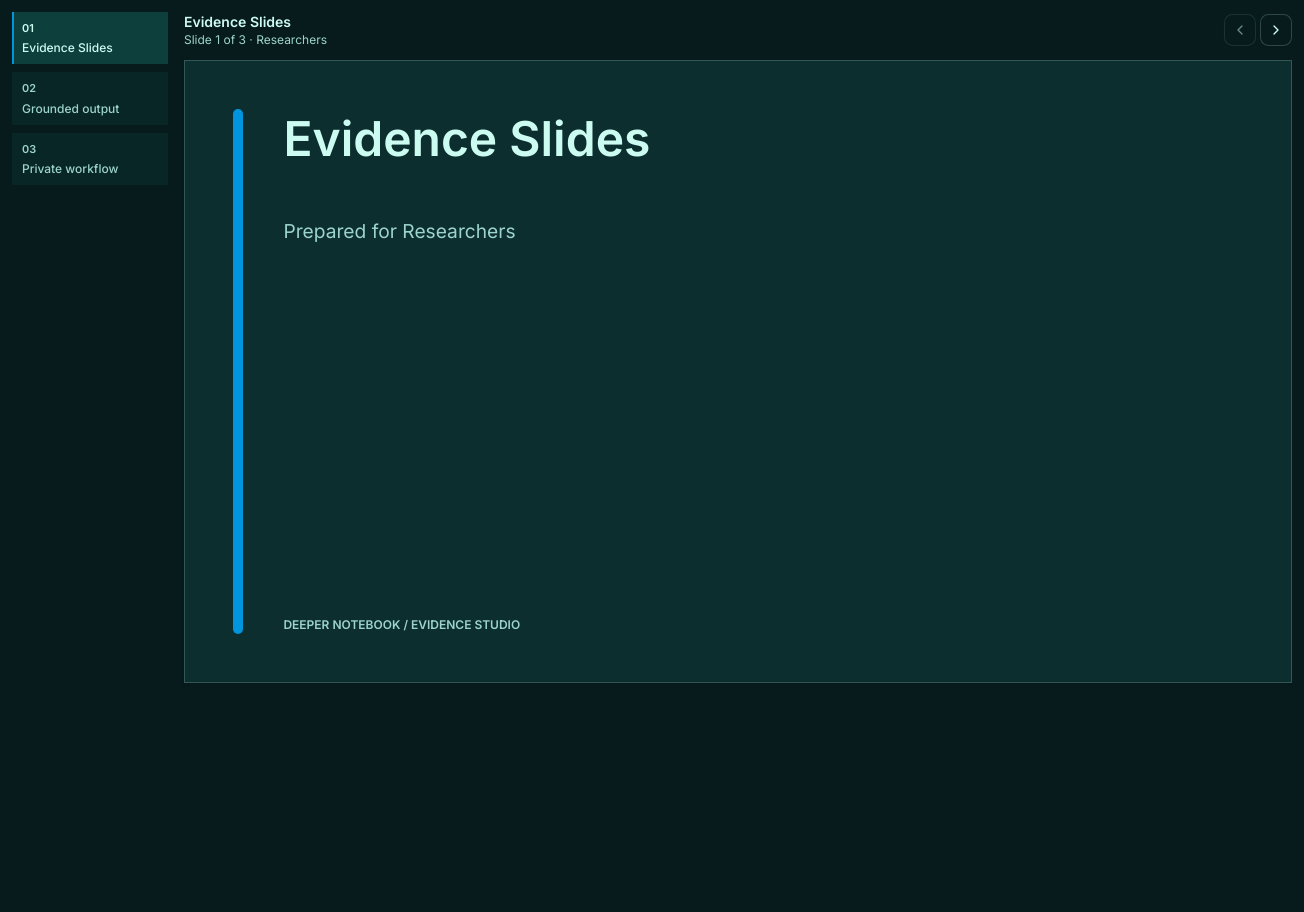
it: SlideDeckViewer › navigates a fixed slide stage with buttons and arrow keys
The image size is (1304, 912).
Expected: the heading "Evidence Slides" is shown, left=283, top=109, right=650, bottom=168
Expected: the text "Prepared for Researchers" is shown, left=283, top=219, right=516, bottom=243
Click the button named "Next slide".
click(1276, 30)  # box left=1260, top=14, right=1292, bottom=46
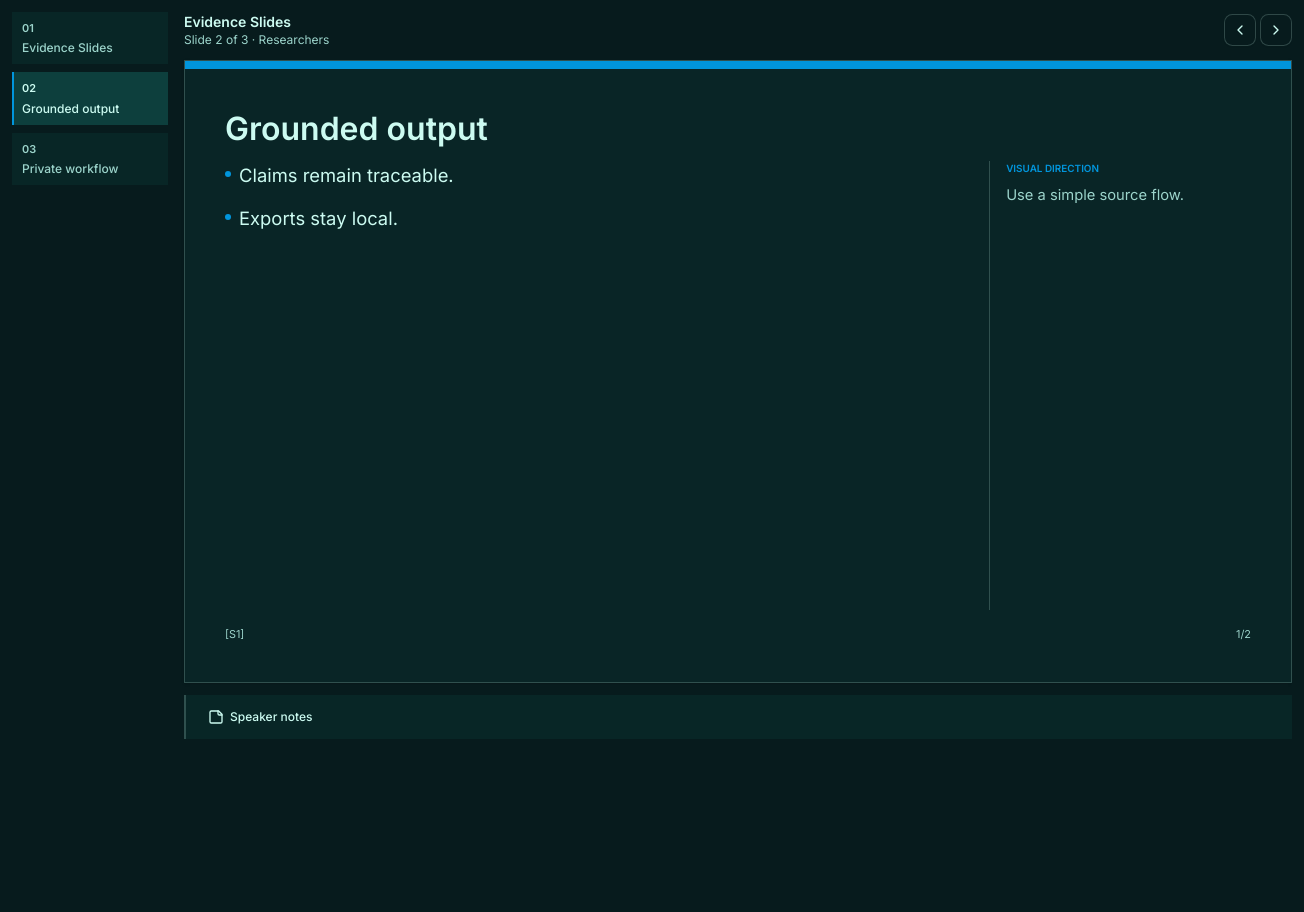
Now the heading "Grounded output" is shown, box left=225, top=109, right=488, bottom=148
Now the text "Slide 2 of 3 · Researchers" is shown, box left=184, top=32, right=329, bottom=48
Click the button named "Next slide".
click(1276, 30)  # box left=1260, top=14, right=1292, bottom=46
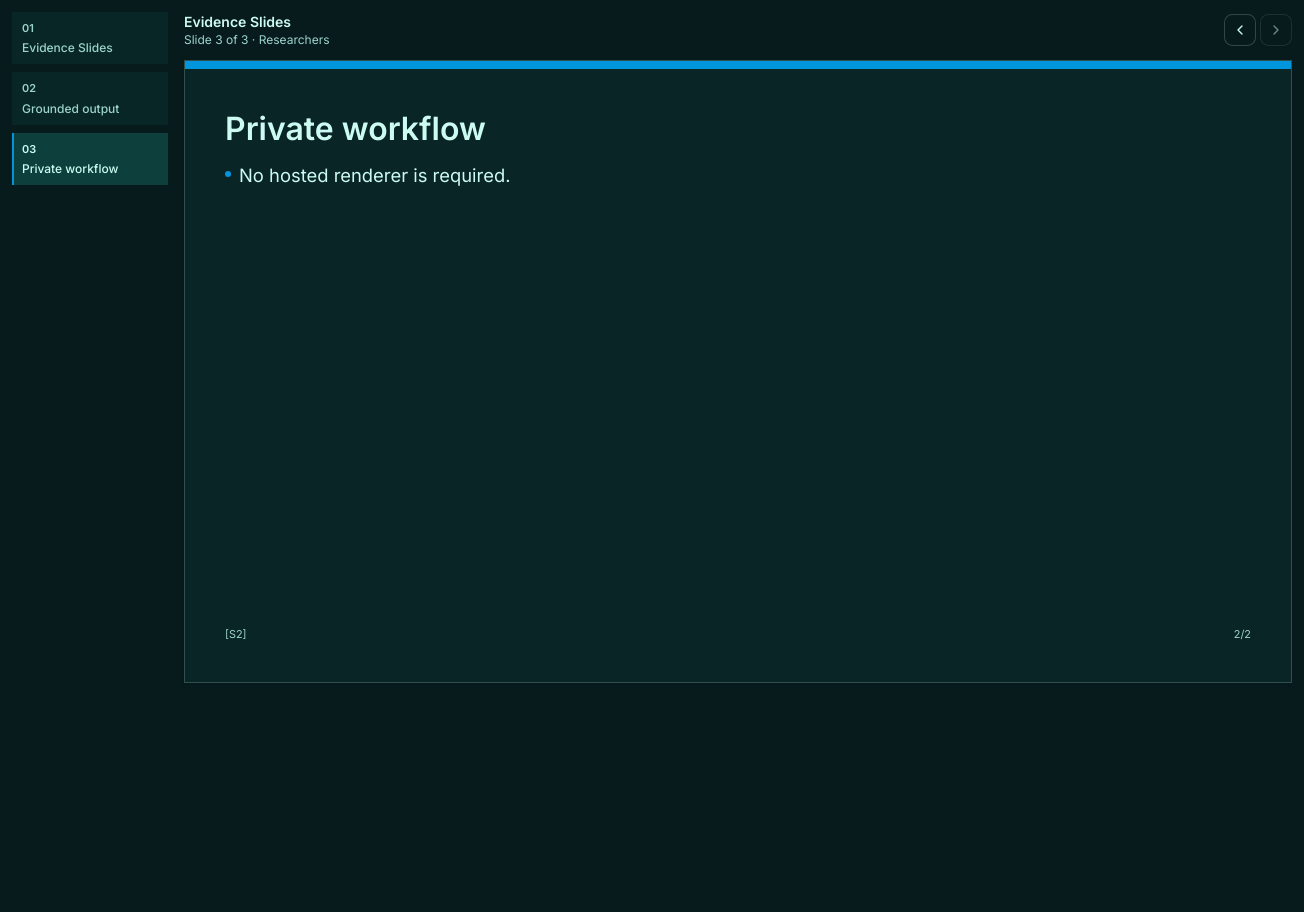
Now the heading "Private workflow" is shown, box left=225, top=109, right=486, bottom=148
Now the text "Slide 3 of 3 · Researchers" is shown, box left=184, top=32, right=330, bottom=48
Press ArrowLeft in the element named "Slide deck"
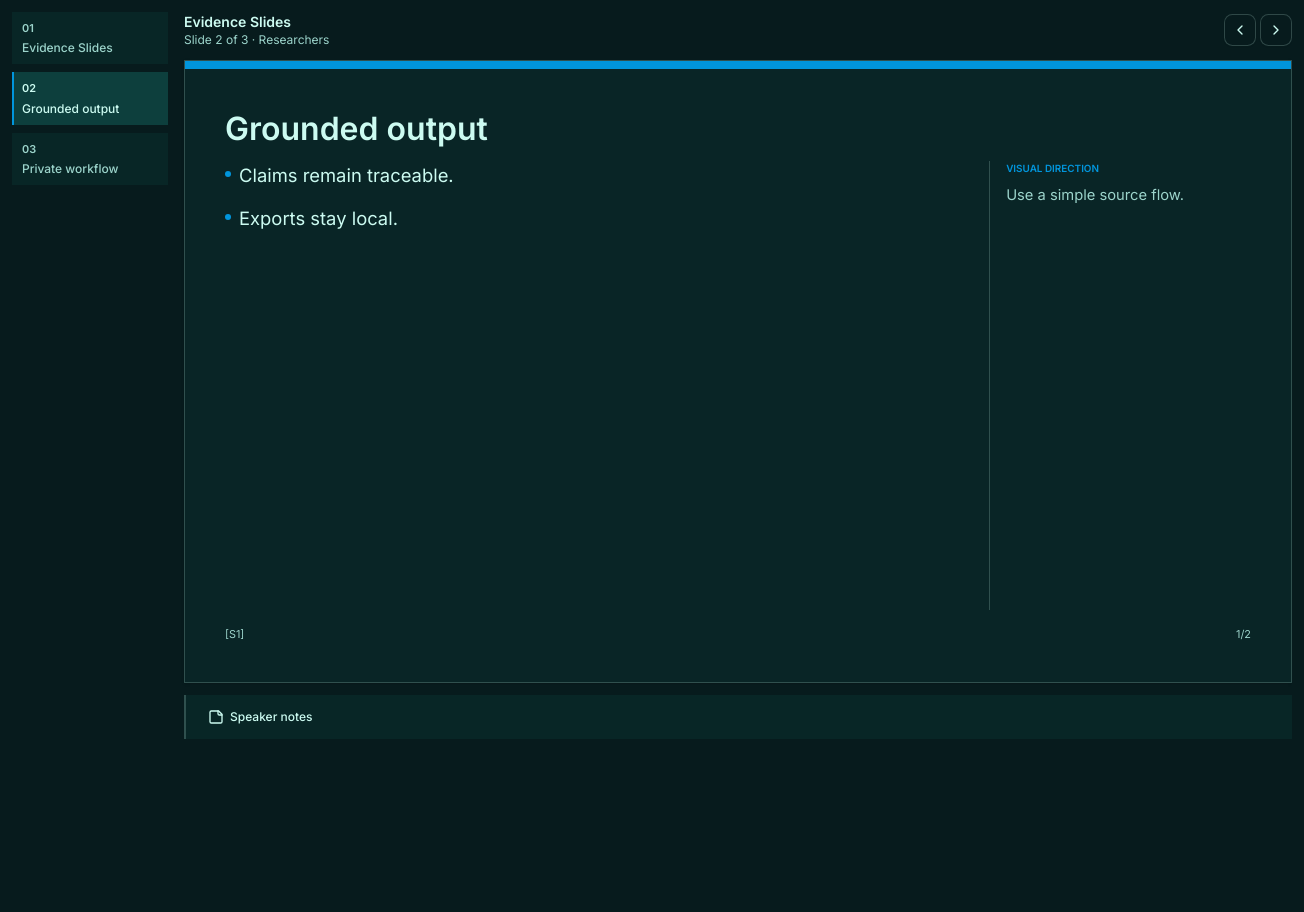
Now the heading "Grounded output" is shown, box left=225, top=109, right=488, bottom=148
